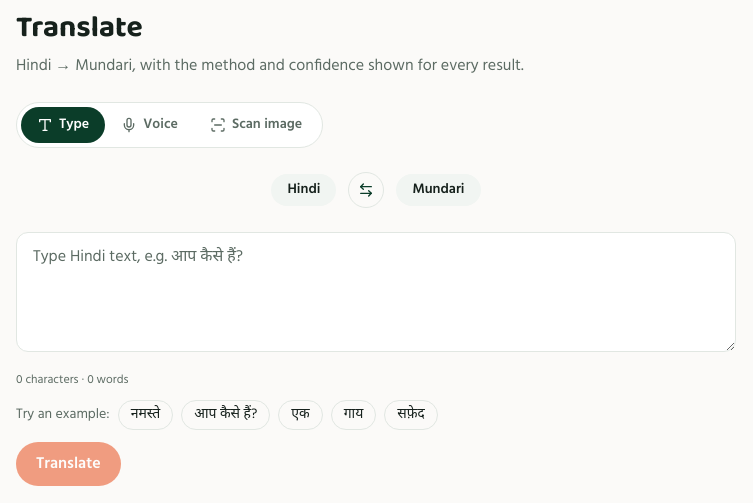
Translate page › fills the input when an example chip is clicked
Click the button "एक" at (300, 415), box [278,400,323,430]
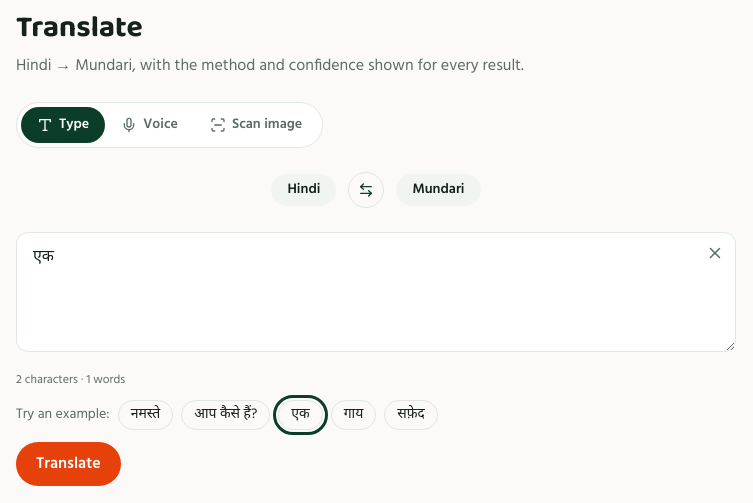
Expected: the text box with placeholder "Type Hindi text, e.g. आप कैसे हैं?" holds "एक", [16,232,736,352]
